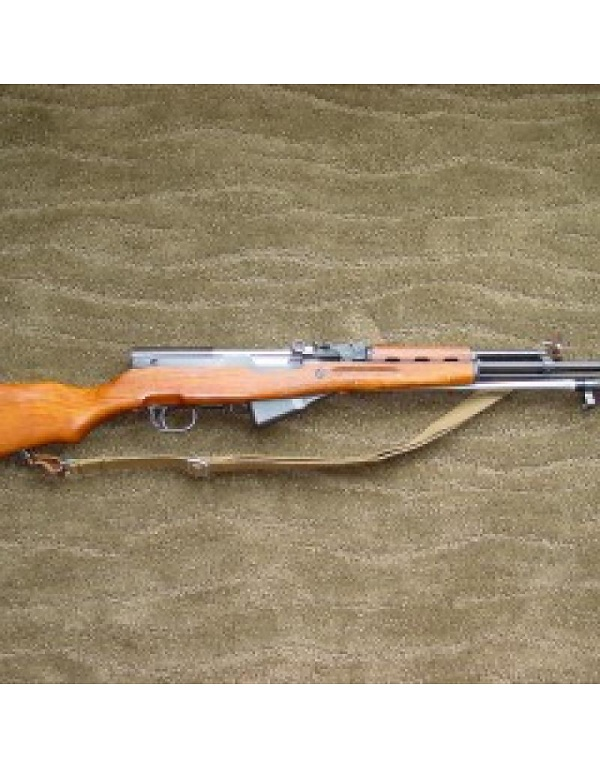ak47: (2, 344, 598, 461)
